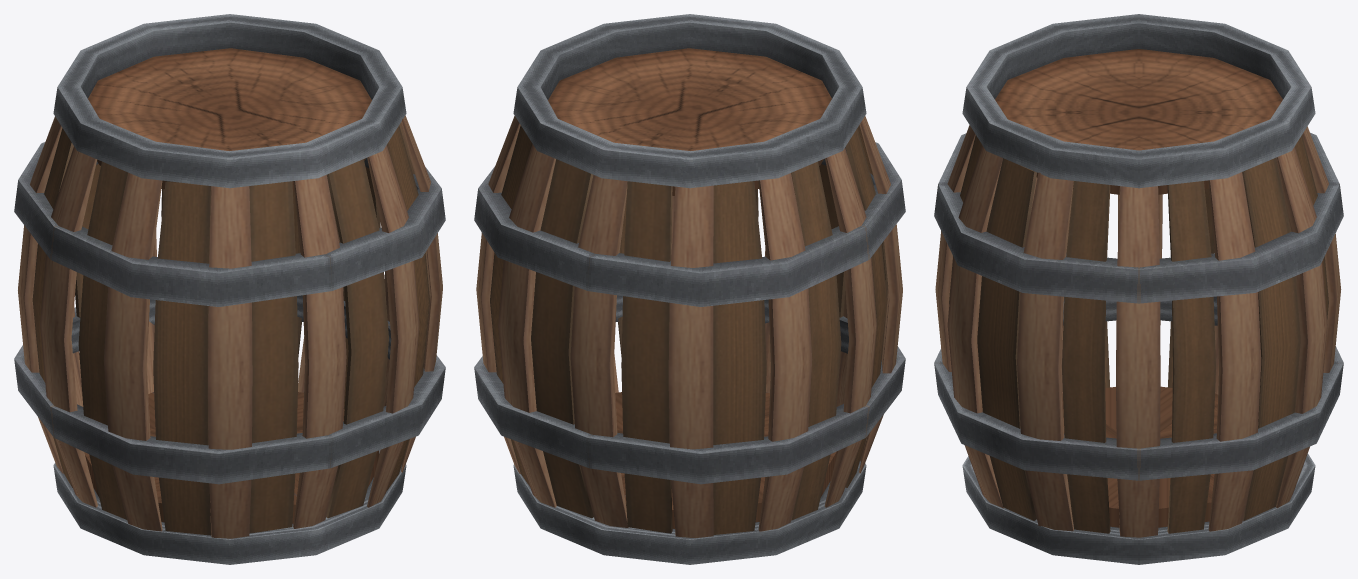
The model's file is barrel_broken.glb.
3 renders of one model, left to right at view 1: azimuth 30°, elevation 25°; view 2: azimuth 150°, elevation 25°; view 3: azimuth 270°, elevation 25°, orthographic.
Parts seen in each view (by area): view 1: Barrel.003, Barrel.016, Barrel.001, Barrel.002, Barrel.024, Barrel.025, Barrel.036, Barrel.035, Barrel.037, Barrel.026, Barrel.018, Barrel.034 (+9 smaller); view 2: Barrel.003, Barrel.016, Barrel.001, Barrel.002, Barrel.021, Barrel.020, Barrel.032, Barrel.031, Barrel.033, Barrel.019, Barrel.018, Barrel.004 (+8 smaller); view 3: Barrel.003, Barrel.016, Barrel.001, Barrel.002, Barrel.040, Barrel.039, Barrel.028, Barrel.029, Barrel.041, Barrel.027, Barrel.018, Barrel.030 (+8 smaller).
Boxes of the visible parts, x1,y1,x2,y2 form: Barrel.003: [53, 14, 406, 188]; Barrel.016: [88, 48, 371, 190]; Barrel.001: [14, 142, 445, 306]; Barrel.002: [14, 295, 445, 484]; Barrel.024: [153, 181, 211, 535]; Barrel.025: [249, 181, 298, 533]; Barrel.036: [208, 186, 252, 538]; Barrel.035: [104, 172, 162, 531]; Barrel.037: [293, 175, 346, 528]; Barrel.026: [326, 159, 388, 518]; Barrel.018: [53, 450, 406, 564]; Barrel.034: [40, 146, 97, 507]; Barrel.003: [513, 14, 866, 188]; Barrel.016: [548, 48, 831, 195]; Barrel.001: [474, 142, 905, 306]; Barrel.002: [474, 295, 905, 484]; Barrel.021: [713, 181, 766, 534]; Barrel.020: [621, 181, 672, 533]; Barrel.032: [668, 185, 713, 538]; Barrel.031: [570, 175, 628, 527]; Barrel.033: [758, 173, 812, 531]; Barrel.019: [531, 159, 593, 518]; Barrel.018: [513, 461, 866, 564]; Barrel.004: [498, 144, 556, 507]; Barrel.003: [962, 14, 1315, 188]; Barrel.016: [995, 49, 1282, 194]; Barrel.001: [934, 132, 1343, 303]; Barrel.002: [934, 296, 1343, 480]; Barrel.040: [1116, 186, 1160, 537]; Barrel.039: [1017, 172, 1073, 531]; Barrel.028: [1062, 181, 1110, 533]; Barrel.029: [1167, 181, 1215, 533]; Barrel.041: [1208, 172, 1261, 531]; Barrel.027: [977, 158, 1036, 520]; Barrel.018: [962, 453, 1315, 564]; Barrel.030: [1242, 158, 1300, 520].
Bounding box in the file's own units: 1.94 × 2.07 × 1.9.
Materials: 3 (3 with a texture image).
